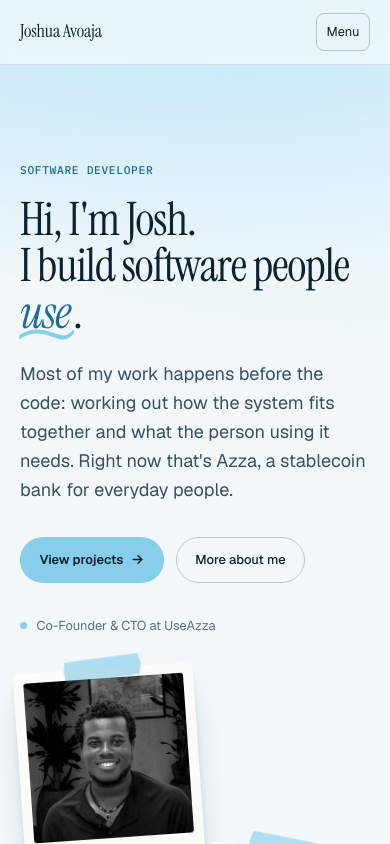
Test: v2 shell › toggles the mobile nav disclosure and closes it on Escape
Click the button "Menu".
click(343, 32)  # box [316,13,370,51]
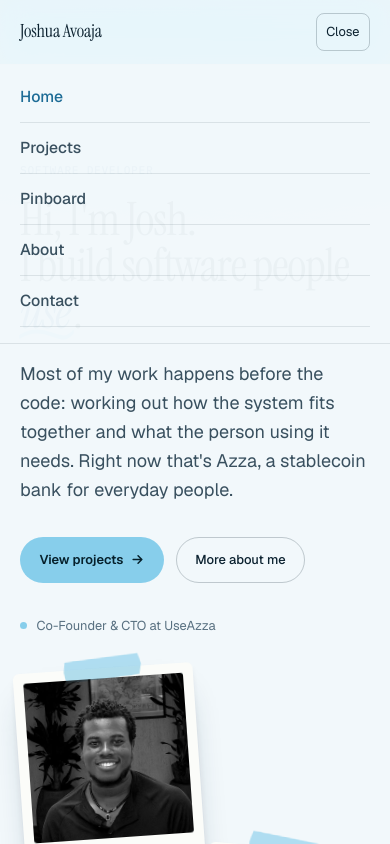
Result: the button "Close" is expanded at [316,13,370,51]
Press Escape
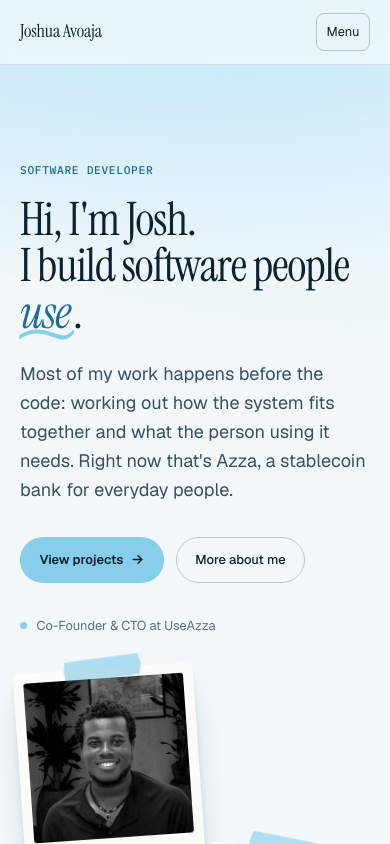
Result: the button "Menu" is shown at [316,13,370,51]
